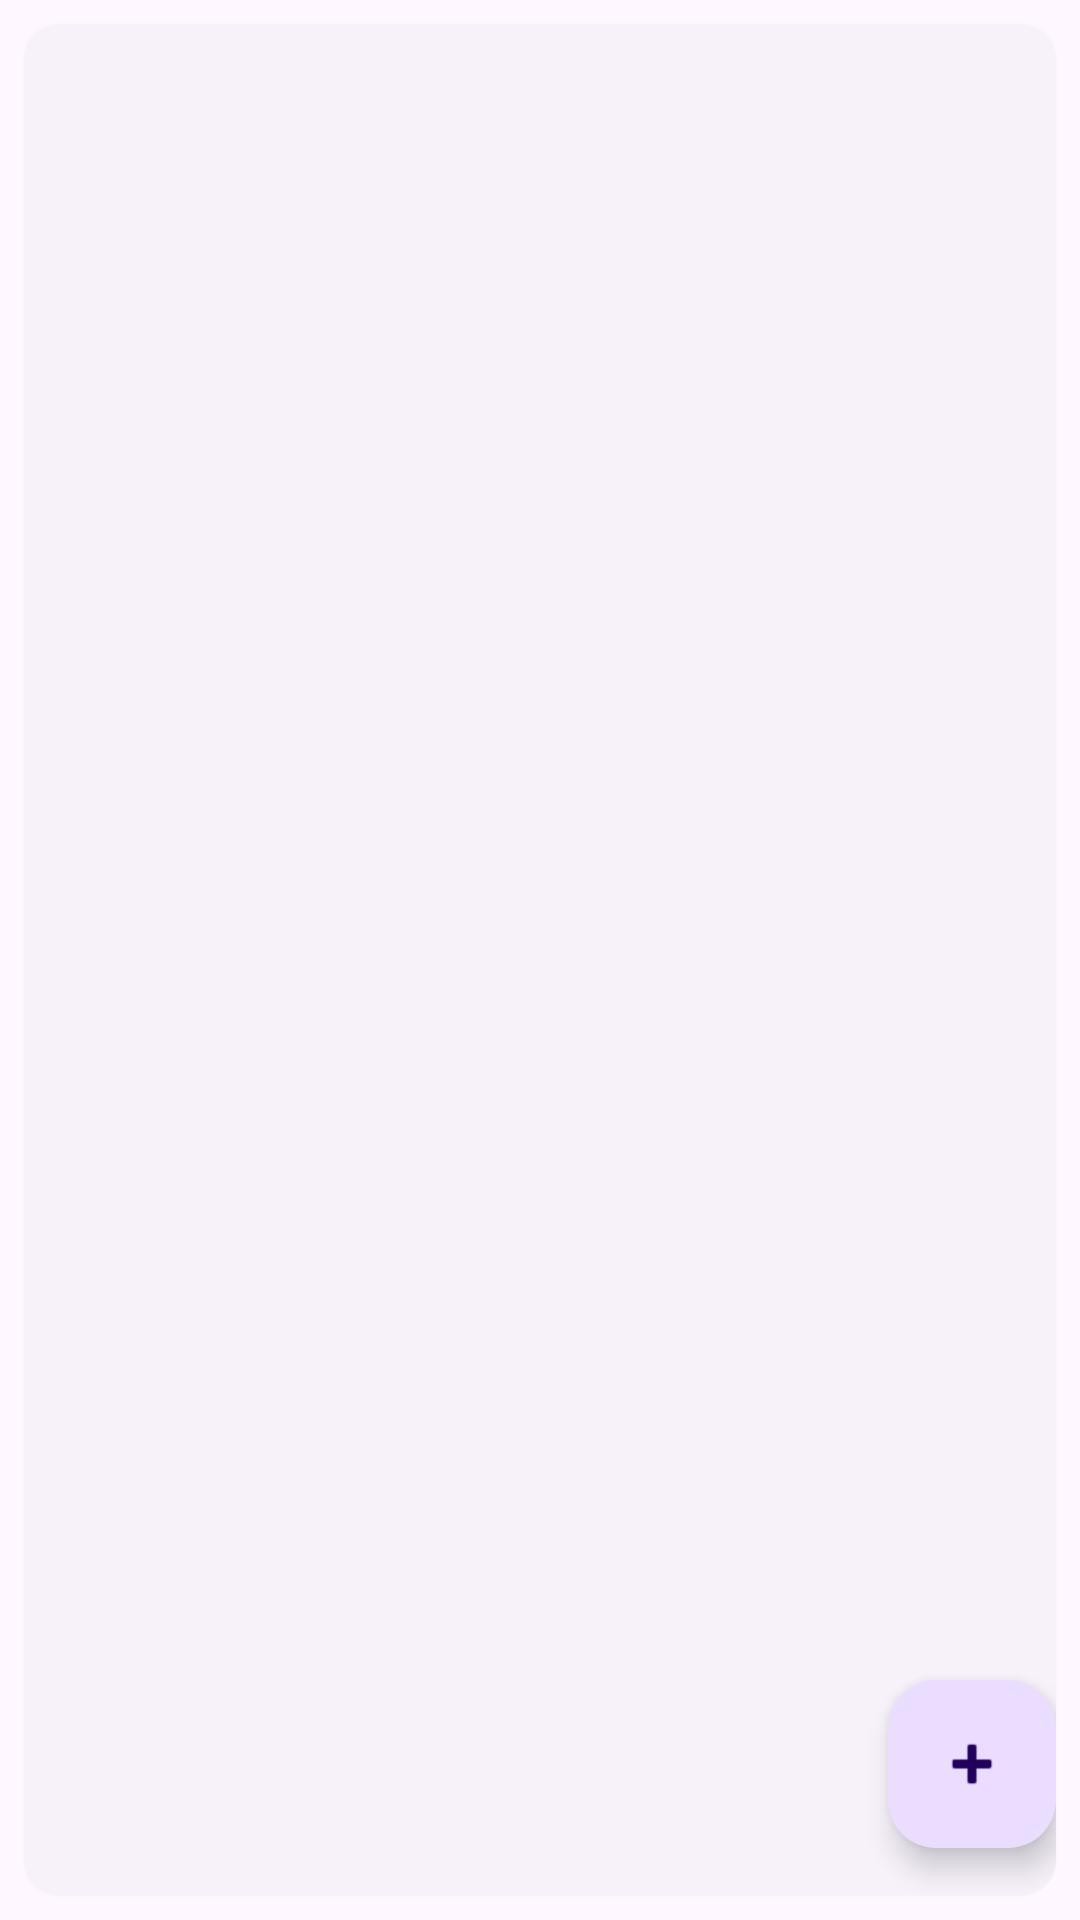

Icons on this 1080 x 1920 Android screen, each with its box as (x1,y1,x2,y2):
add: (888,1680,1056,1848)
